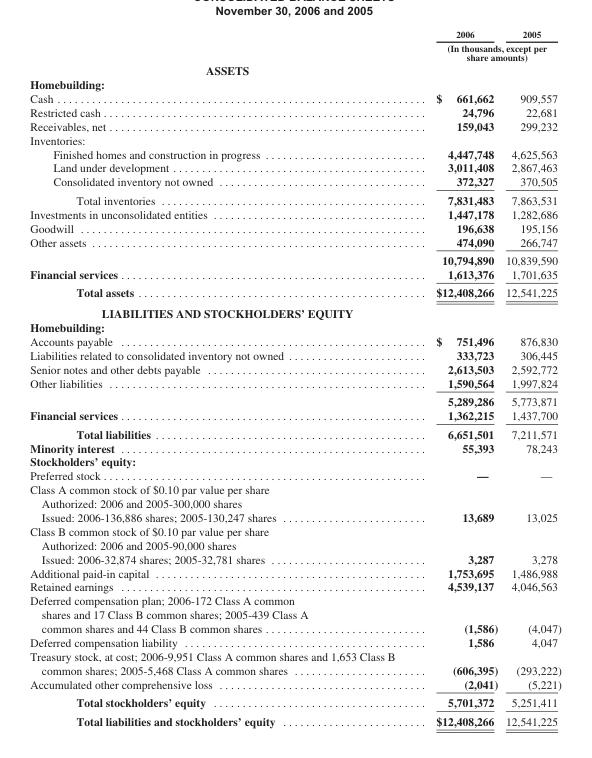table: (29, 28, 560, 727)
table column: (29, 28, 415, 727), (415, 28, 501, 727), (501, 28, 560, 727)
table column header: (29, 28, 560, 62)
table projected row header: (29, 302, 560, 320), (29, 62, 560, 77), (29, 132, 560, 146), (29, 454, 560, 468), (29, 482, 560, 496), (29, 523, 560, 537), (29, 537, 560, 551), (29, 77, 560, 90), (29, 320, 560, 333), (29, 496, 560, 509)
table row: (29, 593, 560, 634), (29, 648, 560, 676), (29, 40, 560, 62), (29, 283, 560, 302), (29, 692, 560, 711), (29, 302, 560, 320), (29, 266, 560, 283), (29, 391, 560, 408), (29, 174, 560, 190), (29, 190, 560, 206), (29, 234, 560, 250), (29, 250, 560, 266), (29, 375, 560, 391), (29, 408, 560, 424), (29, 424, 560, 440), (29, 676, 560, 692), (29, 711, 560, 727), (29, 62, 560, 77), (29, 90, 560, 104), (29, 104, 560, 118), (29, 118, 560, 132), (29, 132, 560, 146), (29, 146, 560, 160), (29, 160, 560, 174), (29, 206, 560, 220), (29, 220, 560, 234), (29, 333, 560, 347), (29, 347, 560, 361), (29, 361, 560, 375), (29, 440, 560, 454), (29, 454, 560, 468), (29, 468, 560, 482), (29, 482, 560, 496), (29, 509, 560, 523), (29, 523, 560, 537), (29, 537, 560, 551), (29, 551, 560, 565), (29, 565, 560, 579), (29, 579, 560, 593), (29, 634, 560, 648), (29, 77, 560, 90), (29, 320, 560, 333), (29, 496, 560, 509), (29, 28, 560, 40)
table spanning cell: (415, 40, 560, 62)
